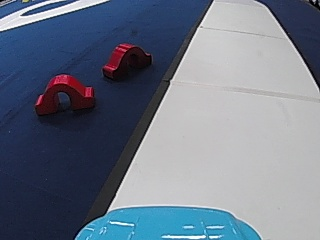bridge: (32, 70, 97, 115), (101, 39, 153, 82)
